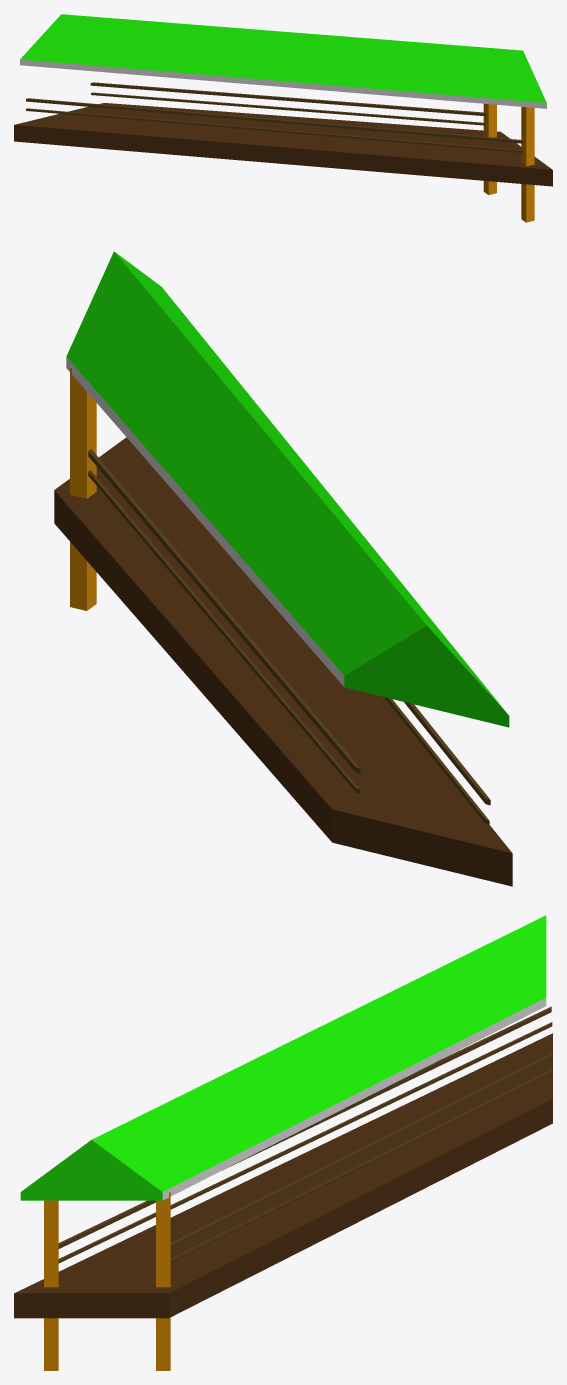
The model's file is mostRotation.fbx.
3 views of the same model, one above another, from view 1: azimuth 30°, elevation 25°; view 2: azimuth 150°, elevation 25°; view 3: azimuth 270°, elevation 25° (orthographic). The views are drawn at different scales.
Parts seen in each view (by area): view 1: Cube.015; view 2: Cube.015; view 3: Cube.015.
Boxes of the visible parts, <box> form: Cube.015: <box>14,14,552,222</box>; Cube.015: <box>54,251,512,886</box>; Cube.015: <box>14,915,552,1370</box>.
Size of the model in its own units: 1210 by 508 by 1059.
